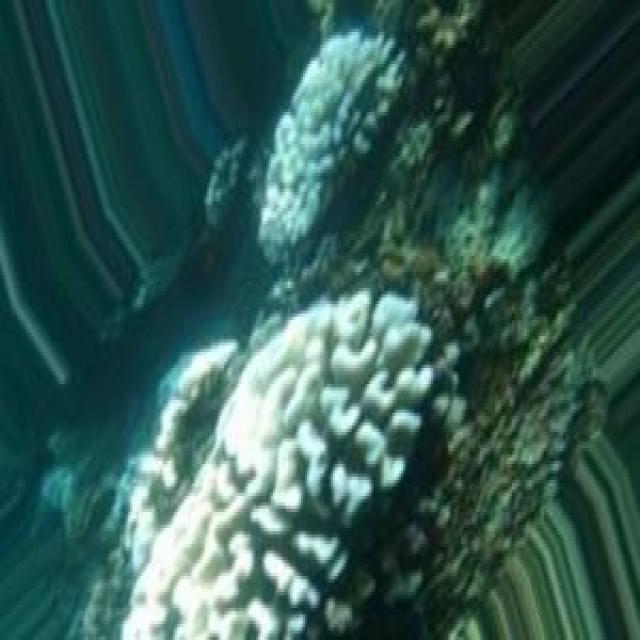Bleached: (123, 289, 432, 638), (254, 23, 409, 258)
